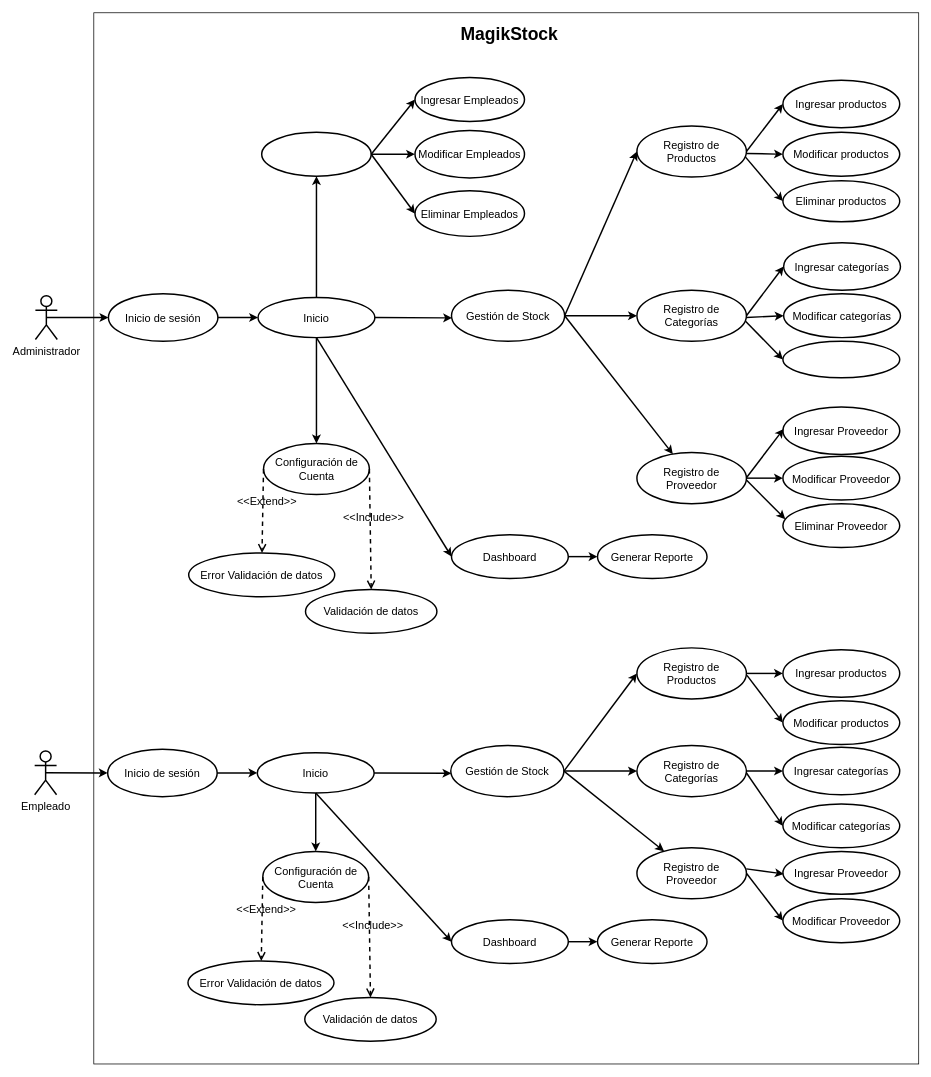
Some shapes in this 931 by 1077 pixel diagram are drawn without their labels. Here are the shapes that lost their labels. From the top down, the centre of each, then its label:
At (316,154): "Gestión de Empleados".
At (841,359): "Eliminar categorías".
